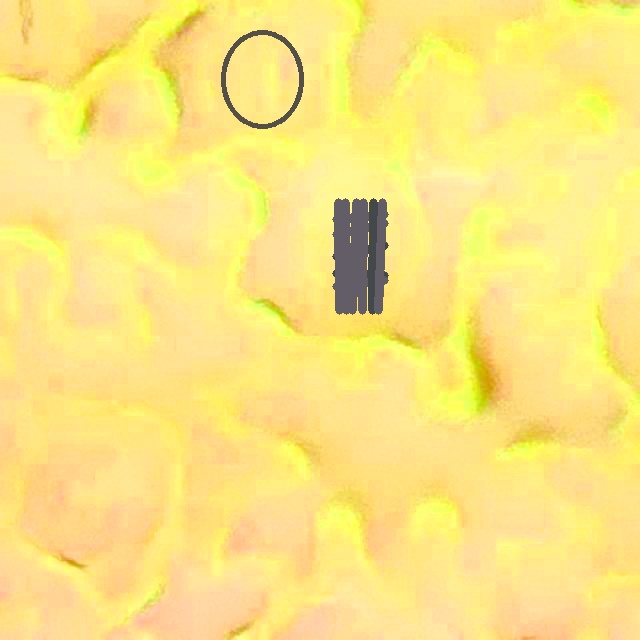close: (221, 30, 304, 128), (333, 199, 387, 313)
